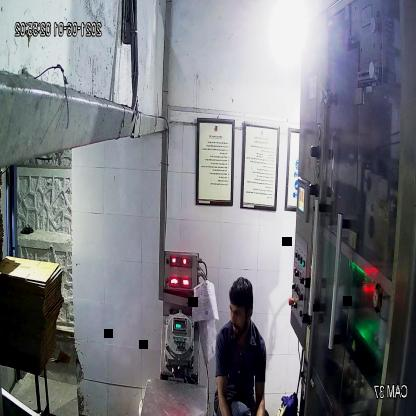no_goggles: (227, 304, 255, 322)
